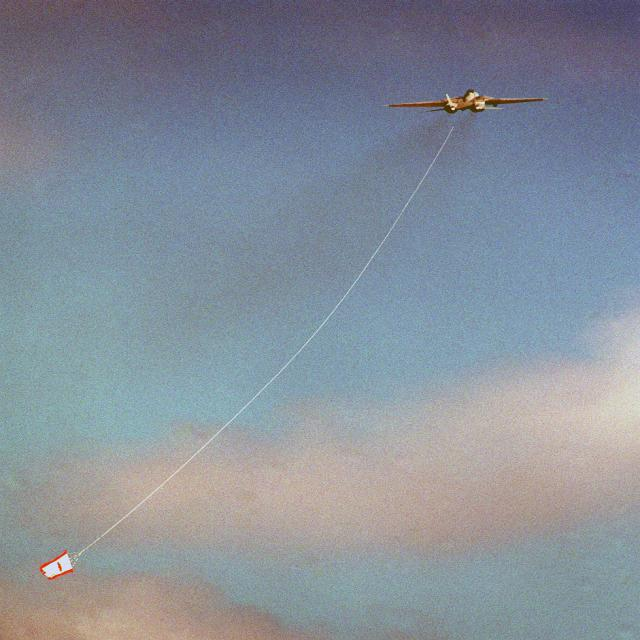MIL_Plane: (382, 89, 548, 114)
